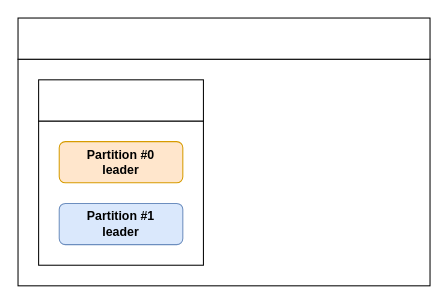
This 448x304 diagram has some shape labels left out. The shapes that lost their labels are listed below. From the top down, each one's box as (x1, y1, x2, y2) in pixels, then its label:
(17, 17, 430, 59): Kafka Cluster
(38, 79, 203, 121): Broker #0
